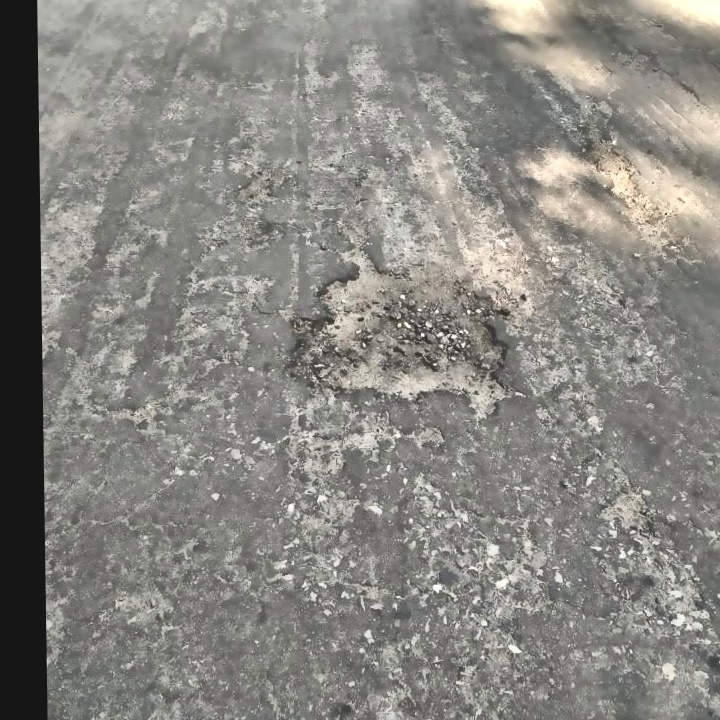pothole: (275, 247, 522, 420), (591, 486, 653, 537)
